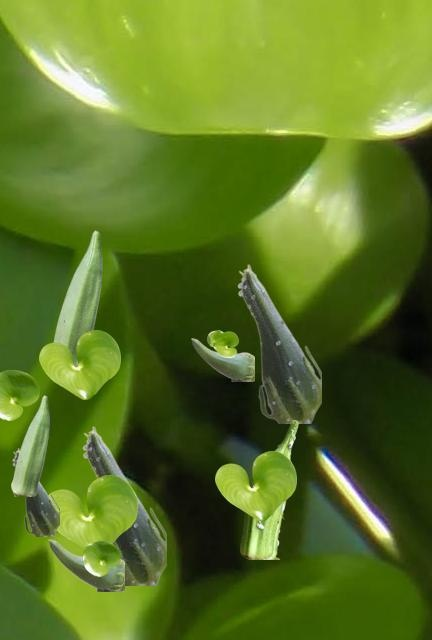okra: (82, 426, 165, 584), (237, 264, 320, 422), (240, 420, 297, 558), (53, 230, 101, 365), (12, 448, 58, 535), (48, 539, 123, 590), (11, 395, 48, 495), (191, 338, 253, 380)
